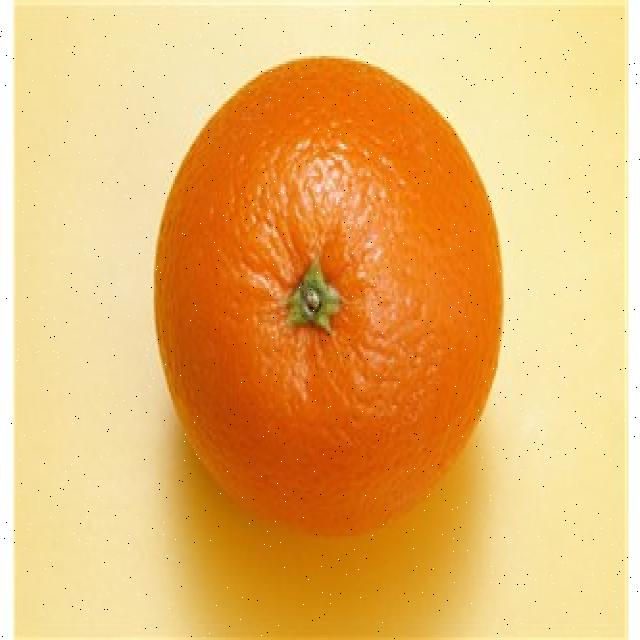Jeruk: (154, 53, 506, 536)
